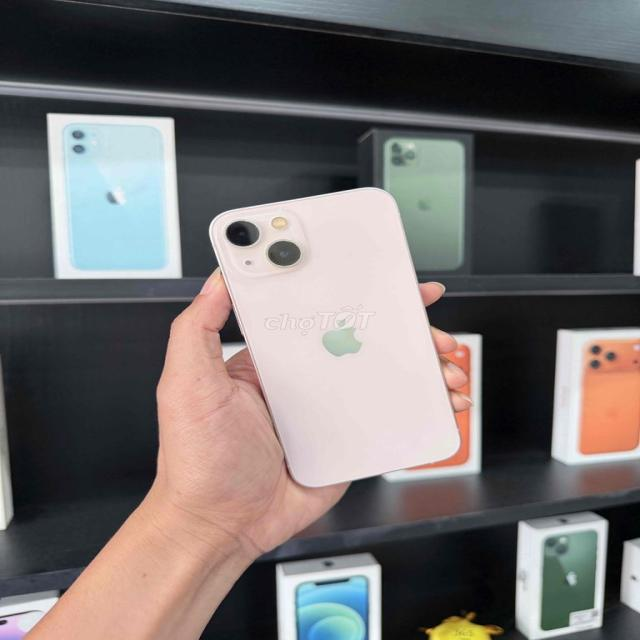gen_12_13: (205, 183, 457, 490)
